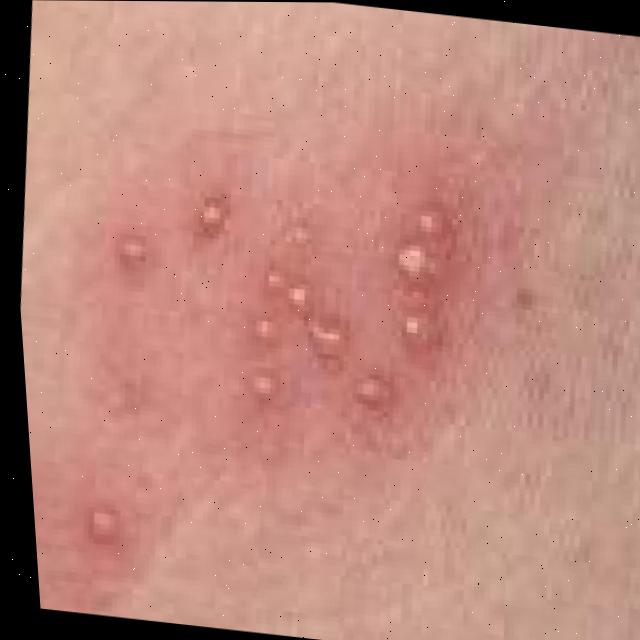Shingles: (84, 167, 482, 429)
